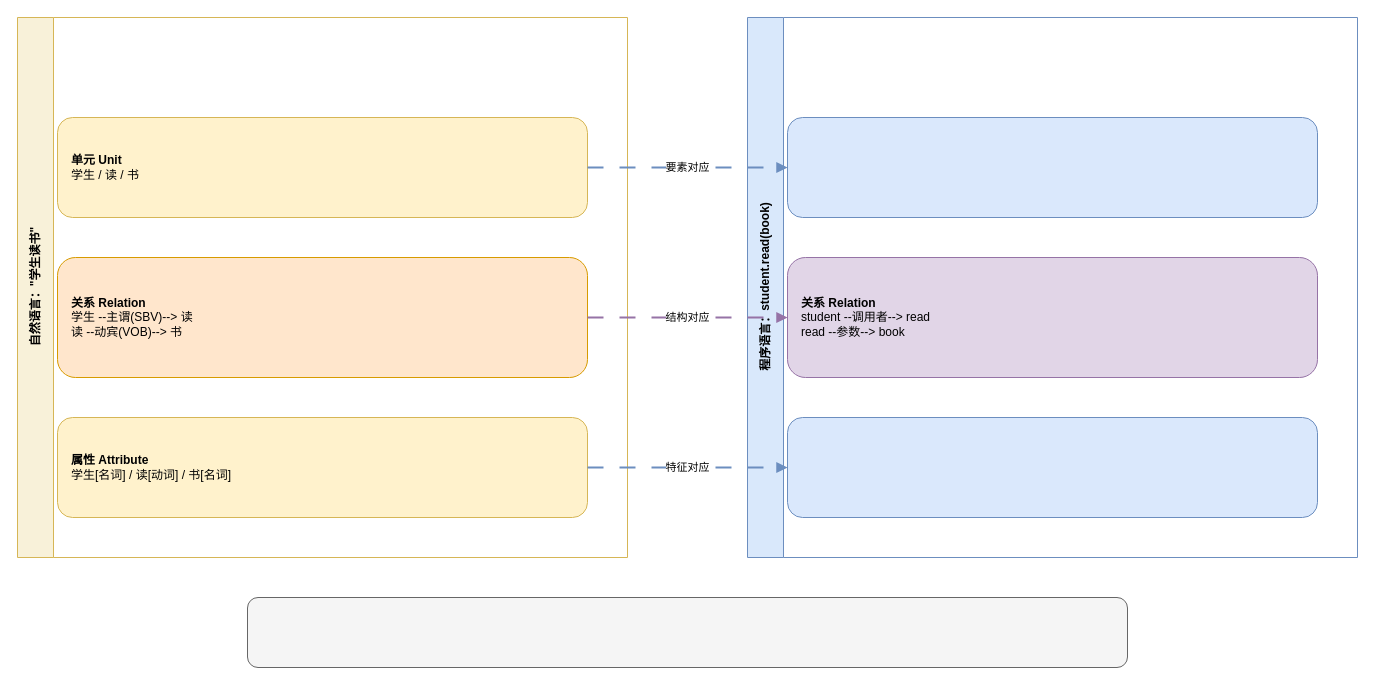
Some shapes in this 1375 by 685 pixel diagram are drawn without their labels. Each missing label, with the centre of its shape:
"单元 Unit student / read / book" goes at point (1052, 167).
"属性 Attribute student[对象] / read[方法] / book[参数]" goes at point (1052, 467).
"说明：表达形式不同，但都可从 单元-关系-属性 三要素进行结构化分析。" goes at point (687, 632).
